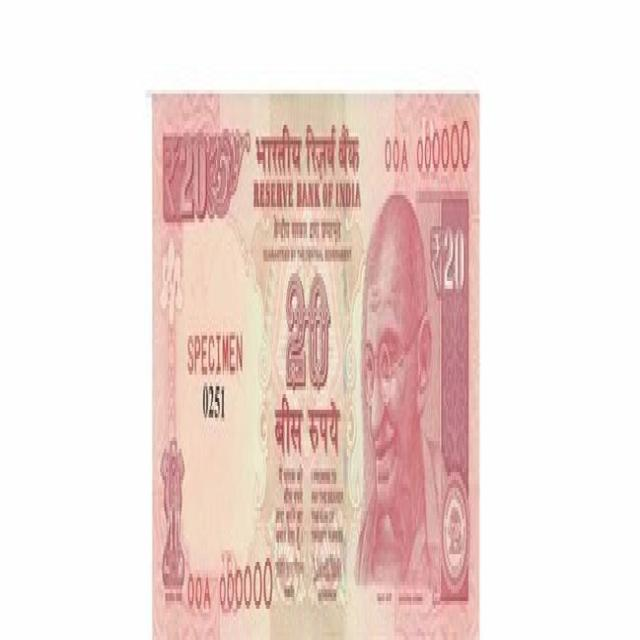20rs: (152, 86, 478, 640)
